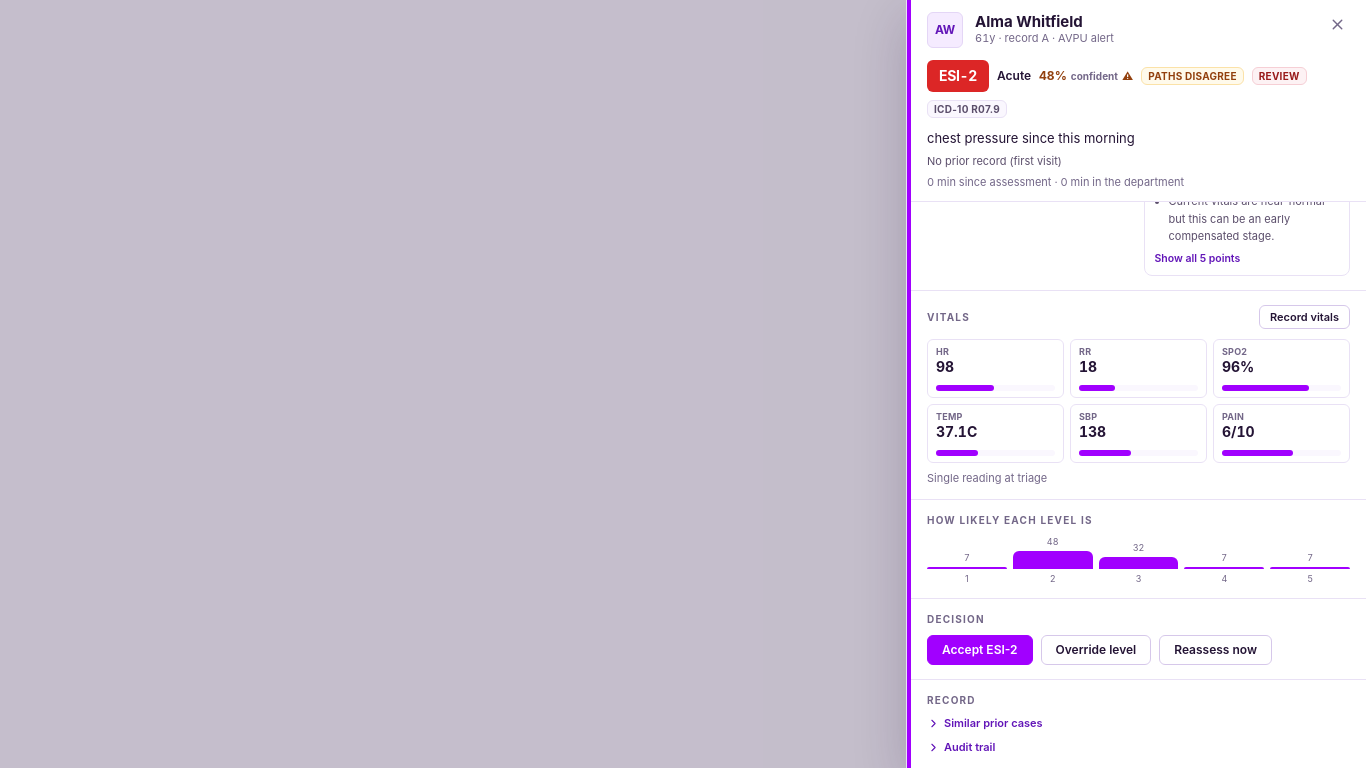
Test: similar prior cases › lists each prior case with what it turned out to be
(page scrolled)
Click the button "Similar prior cases". click: (985, 723)
box: [927,716,1043,730]
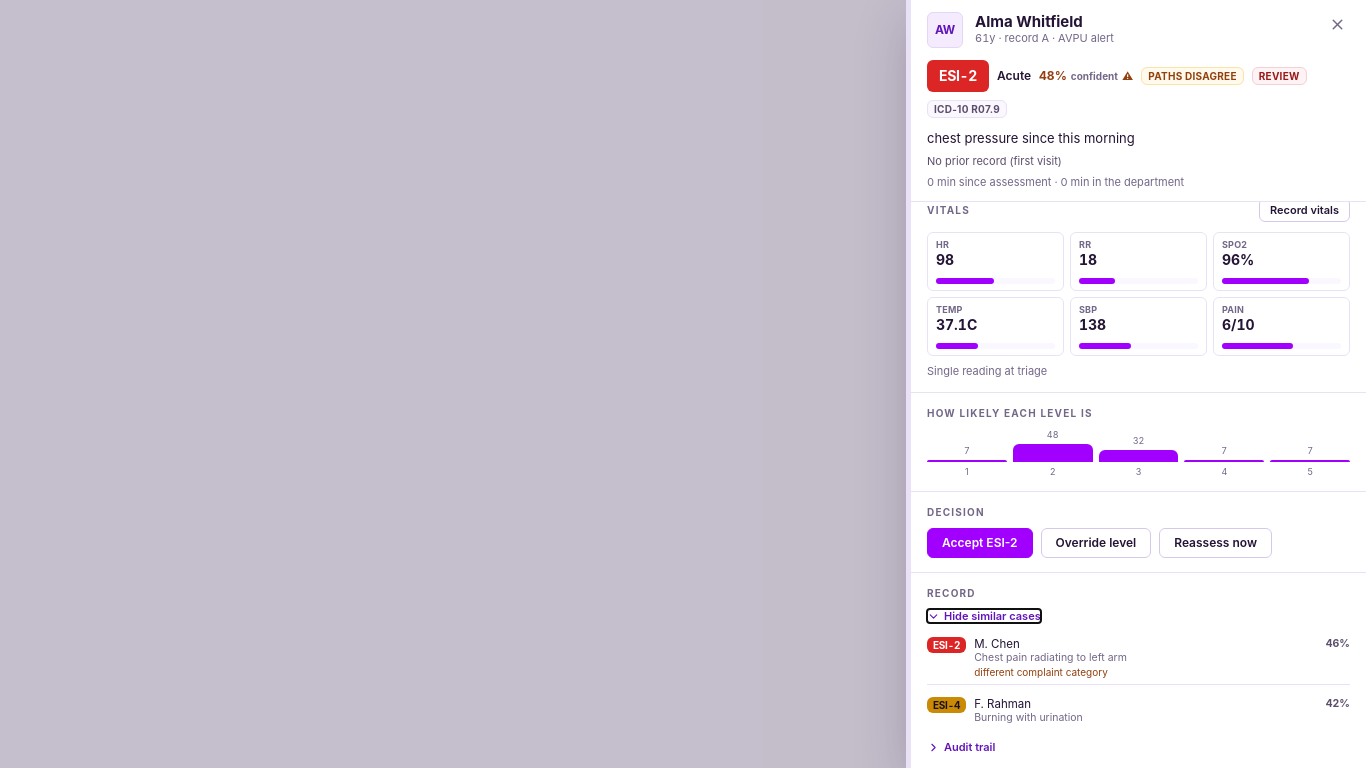
Expected: the text "M. Chen" is shown, [974,637,1020,651]
Expected: the list item "M. Chen" shows "ESI-2", [927,631,1350,685]
Expected: the list item "M. Chen" shows "46%", [927,631,1350,685]
